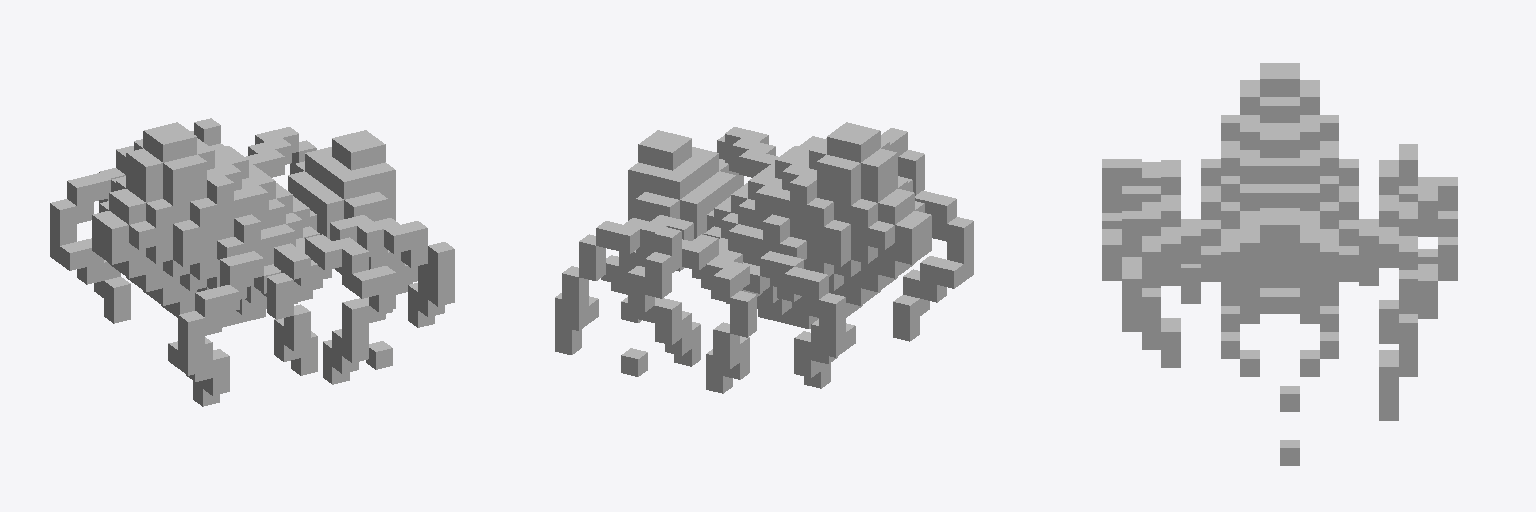
File: Walking 2.obj
3 views of the same model, side by side, from view 1: azimuth 30°, elevation 25°; view 2: azimuth 150°, elevation 25°; view 3: azimuth 270°, elevation 25° (orthographic).
Size of the model in its own units: 18 by 16 by 18.